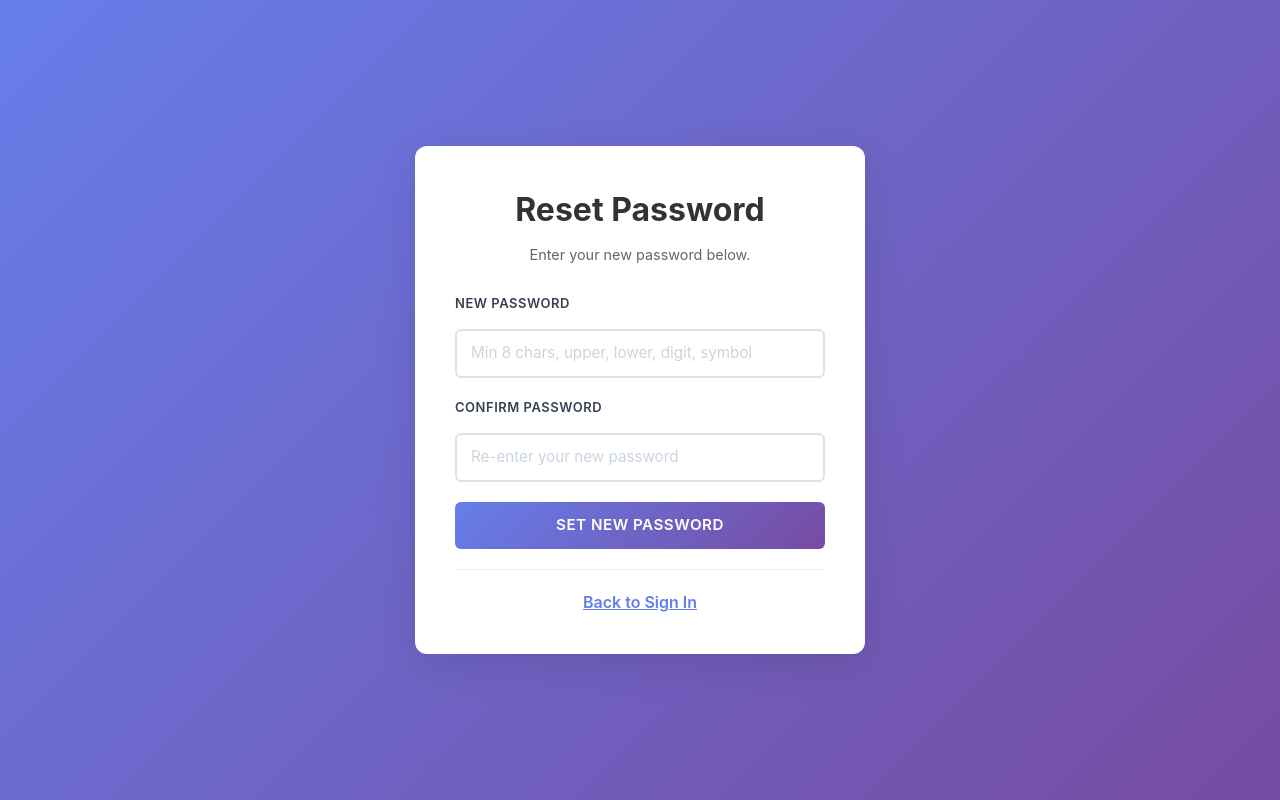
Test: PasswordResetForm (ResetPasswordPage) › Confirm Password › requires confirm password to be filled
Type "StrongPass123!" into the password field labelled "New Password". click: (640, 354)
box: [455, 329, 825, 378]
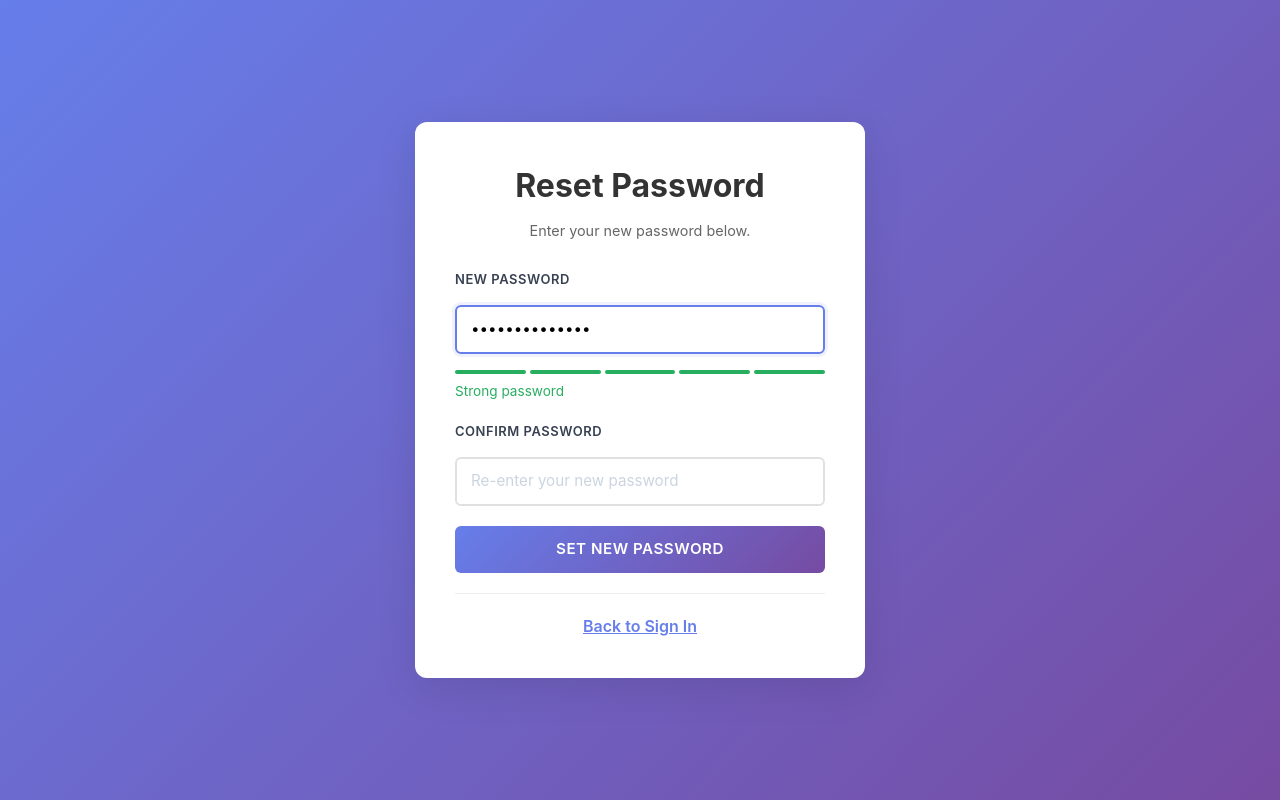
Click the button "Set New Password". click: click(640, 550)
box: [455, 526, 825, 573]
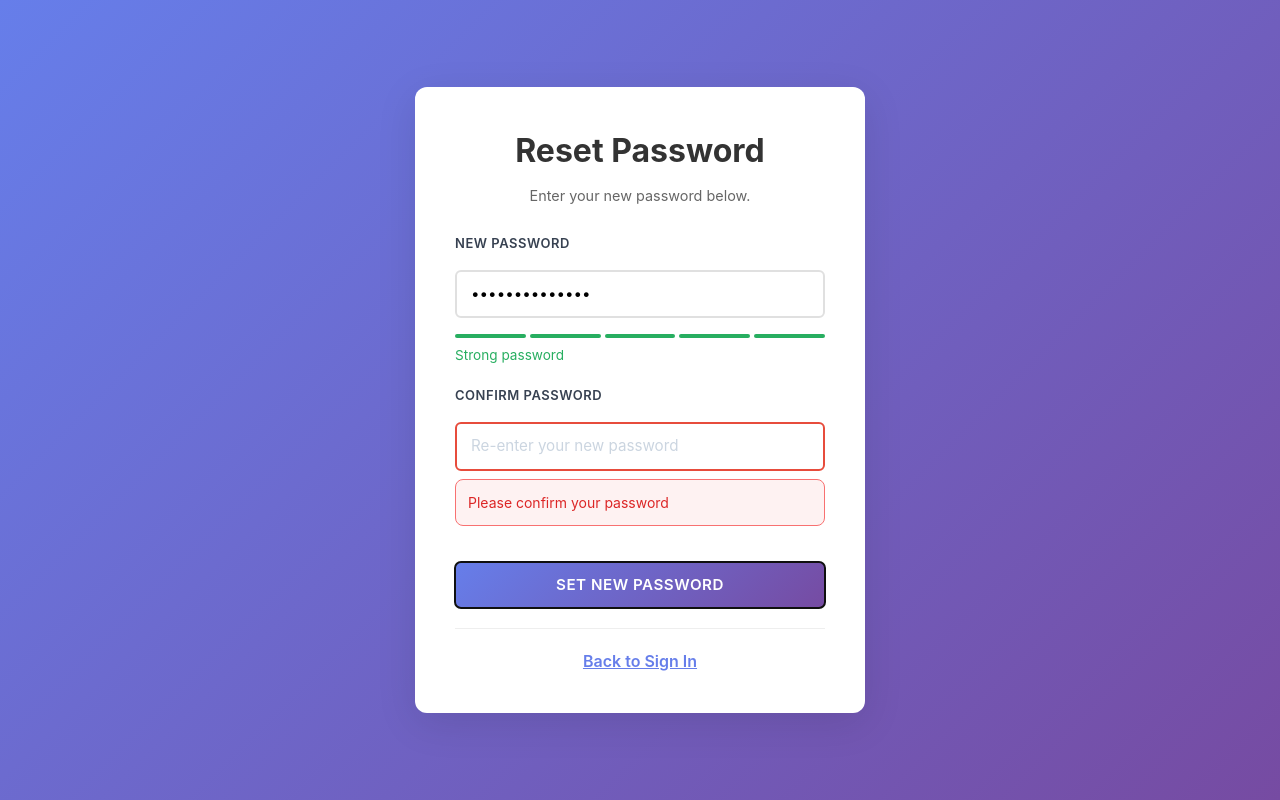
Check: the text "Please confirm your password" is shown, box [455, 479, 825, 526]
